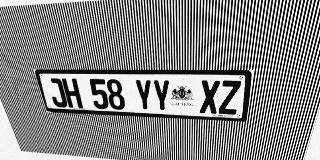5: (89, 79, 110, 109)
8: (105, 79, 126, 110)
H: (61, 78, 83, 108)
J: (46, 78, 68, 108)
X: (200, 80, 220, 114)
Y: (134, 79, 153, 111), (152, 80, 171, 112)
Z: (218, 80, 241, 115)
